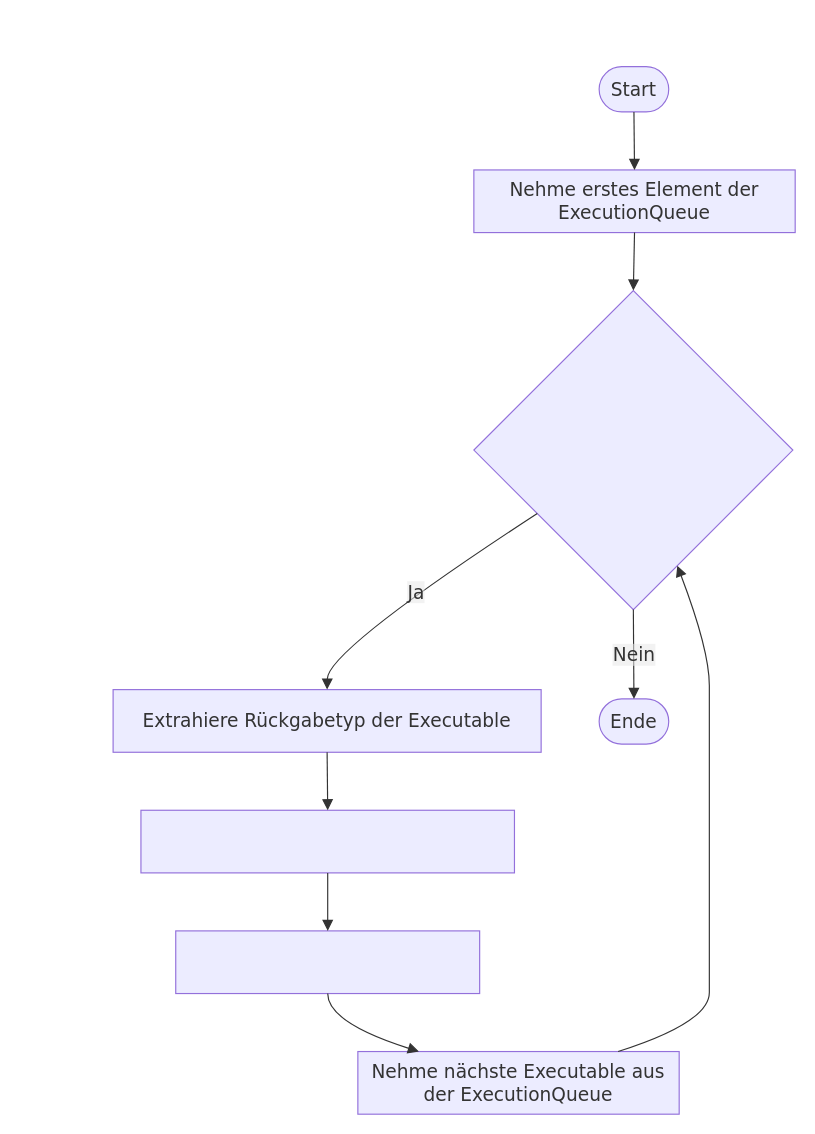
The diagram is 815 pixels wide and 1134 high, and some of its shapes have lost their labels. The centre of each missing label's shape, as x and y in pixels:
Ermittle nach erfolgreicher Ausführung: the point at 327,962
Führe Executabletypen und merke den Rückgabewert: the point at 327,841
Ist das aktuelle Executable != null und war die letzte Ausführung erfolgreich?: the point at 633,449
